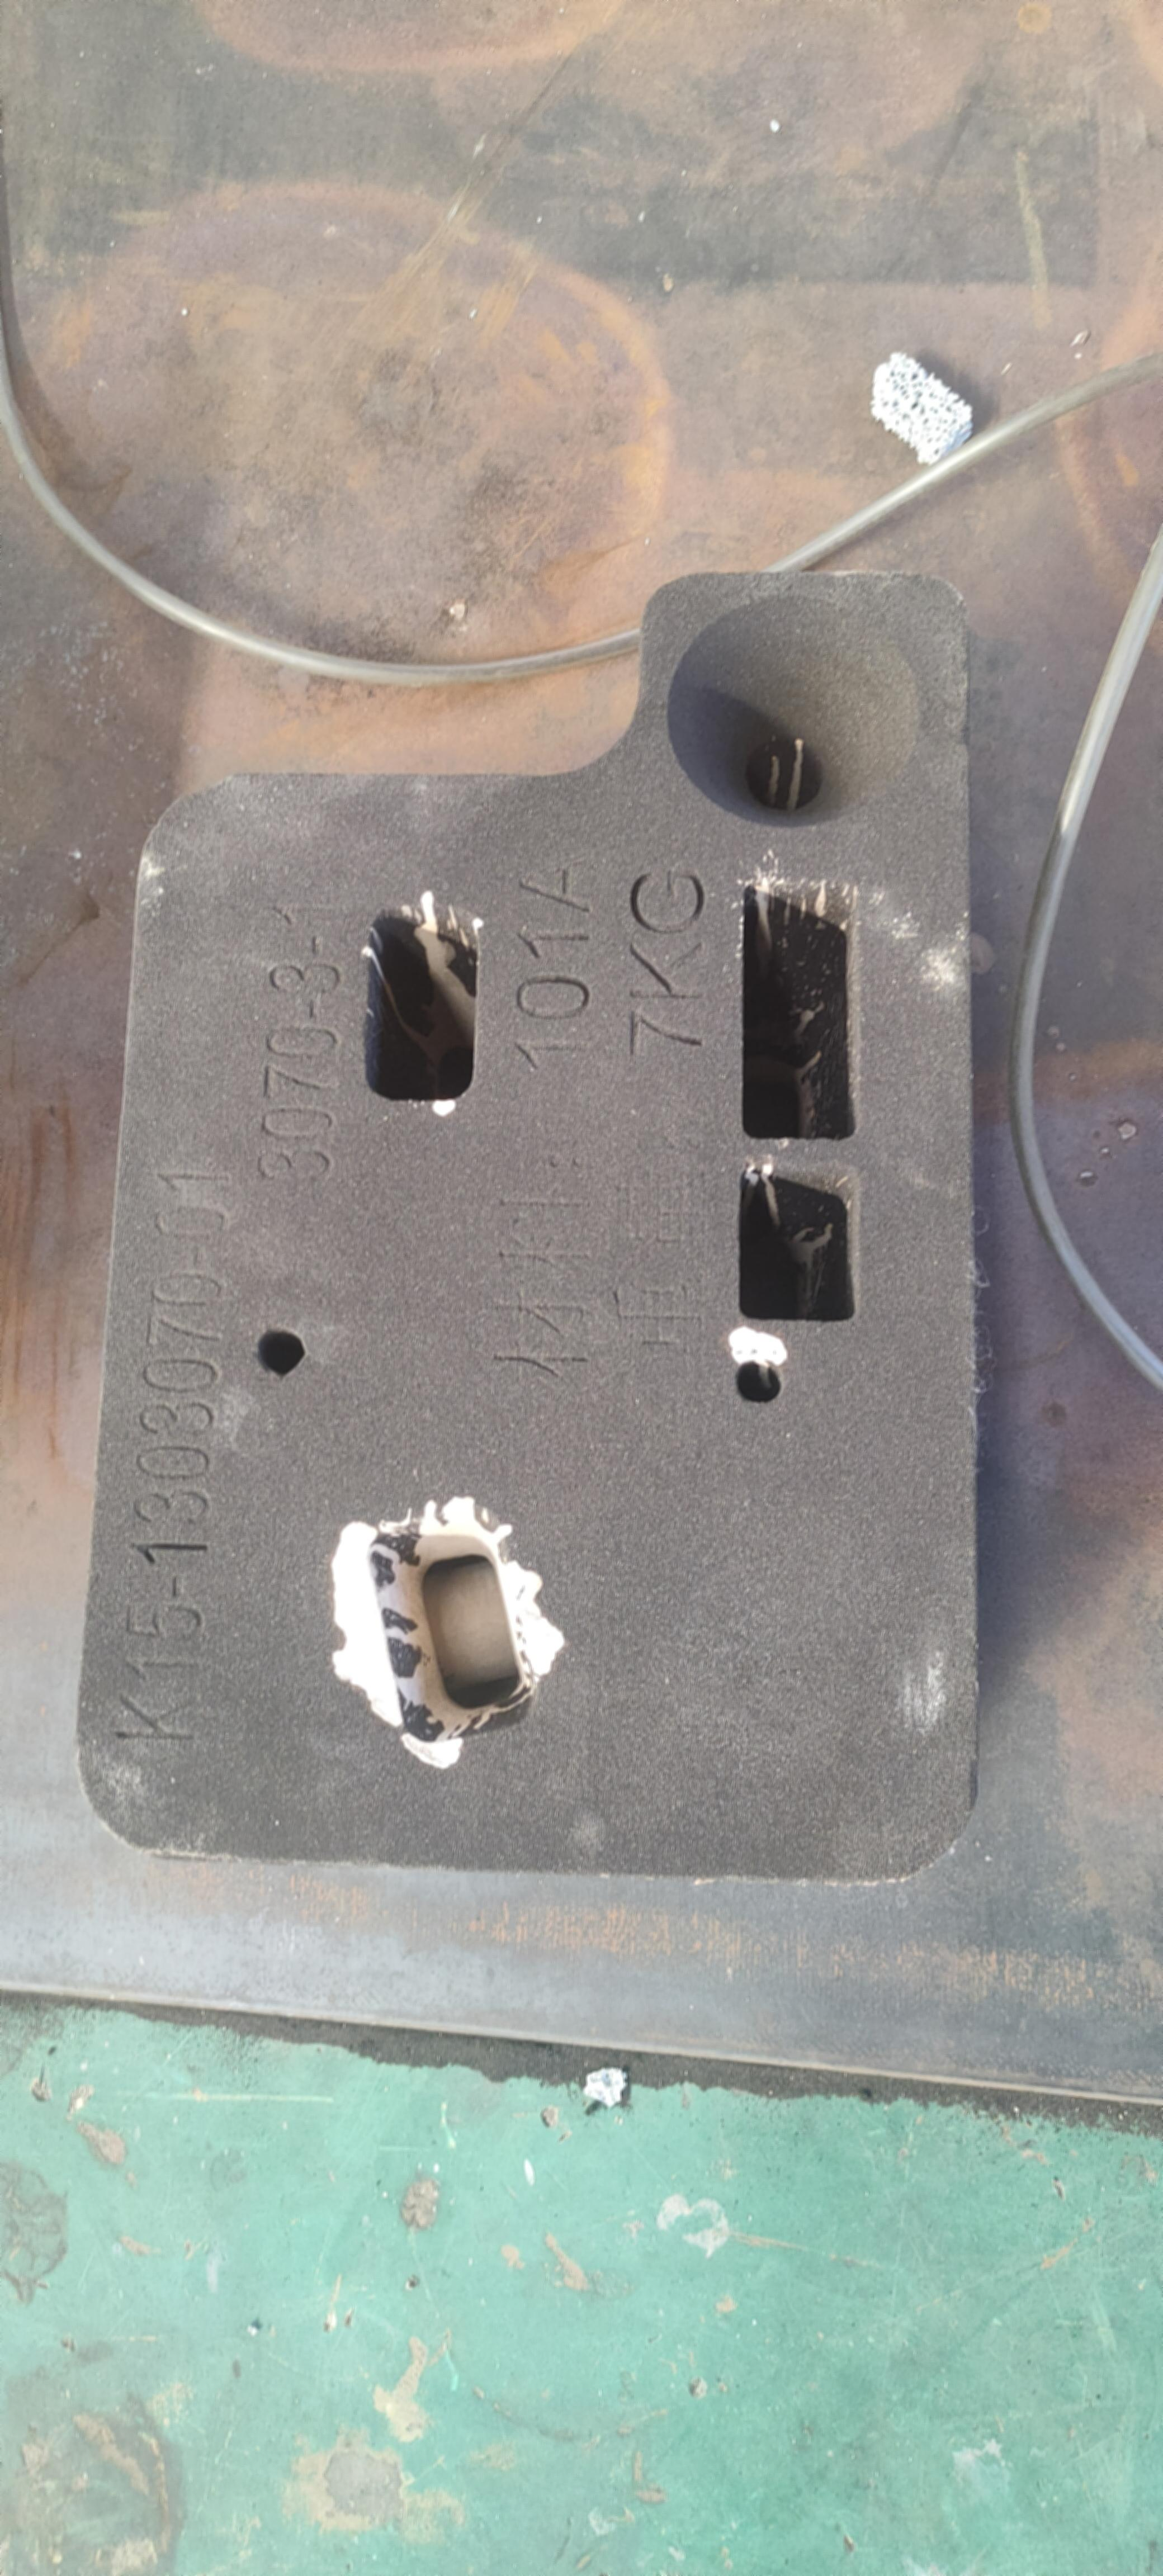pouring hole: (667, 595, 918, 828)
